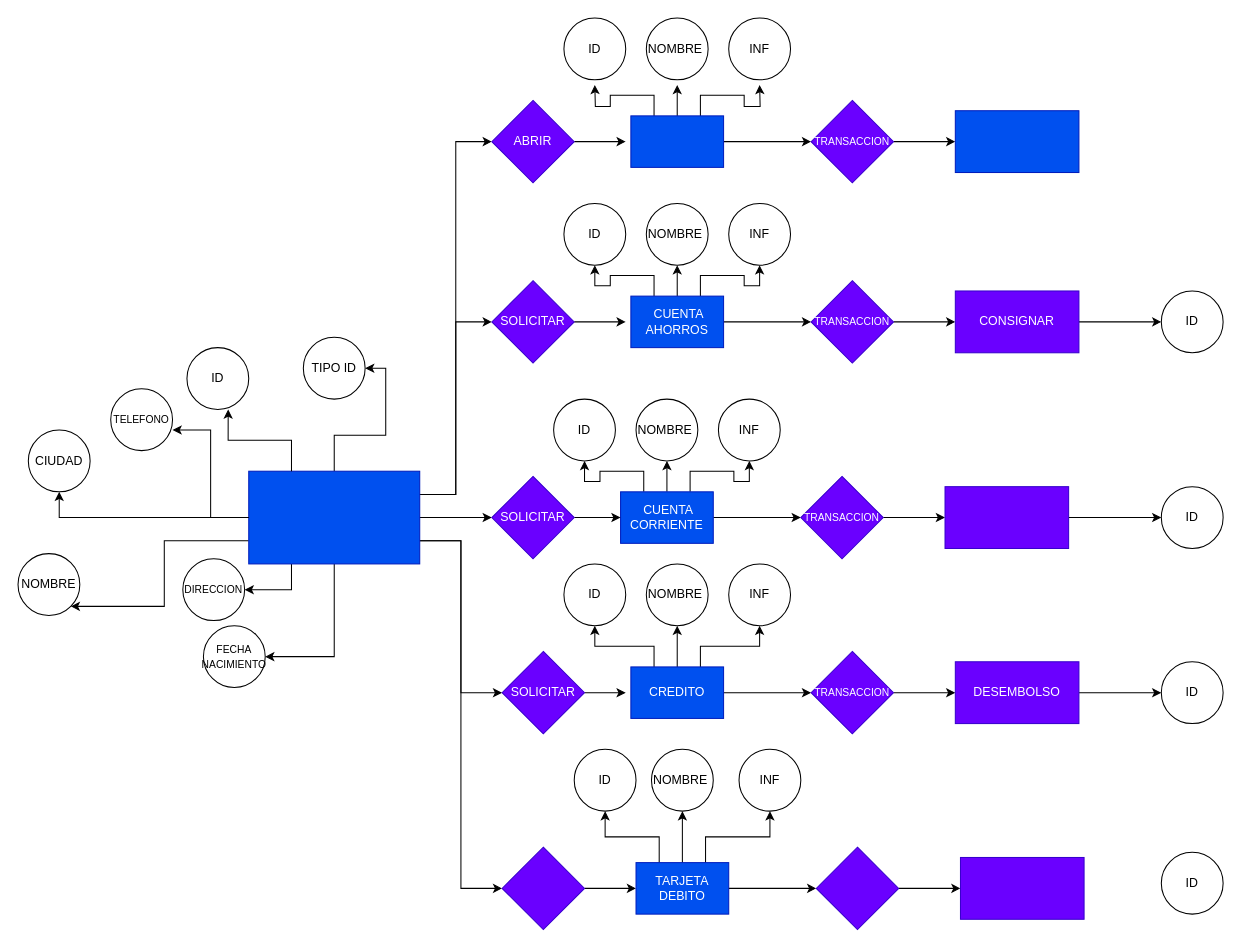
Image size: 1241x948. Some labels were removed from this diagram. The shapes that lost their labels are listed below. From the top down, each one's centre as x and y in pixels, then its label:
(x=677, y=141): CDT
(x=1016, y=141): APERTURA
(x=334, y=517): CLIENTES
(x=543, y=888): ASIGNAR
